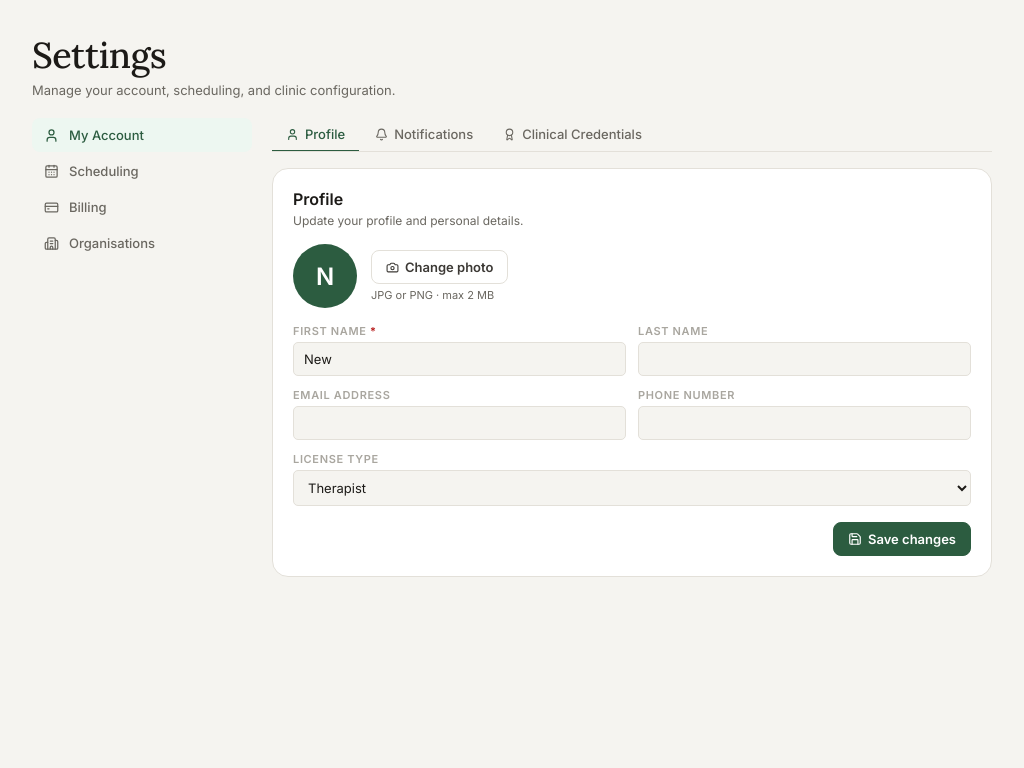
Test: <Settings> page — navigation › switches to Notifications sub-tab
Click the tab "Notifications": click(424, 135) x1=361 y1=118 x2=487 y2=152
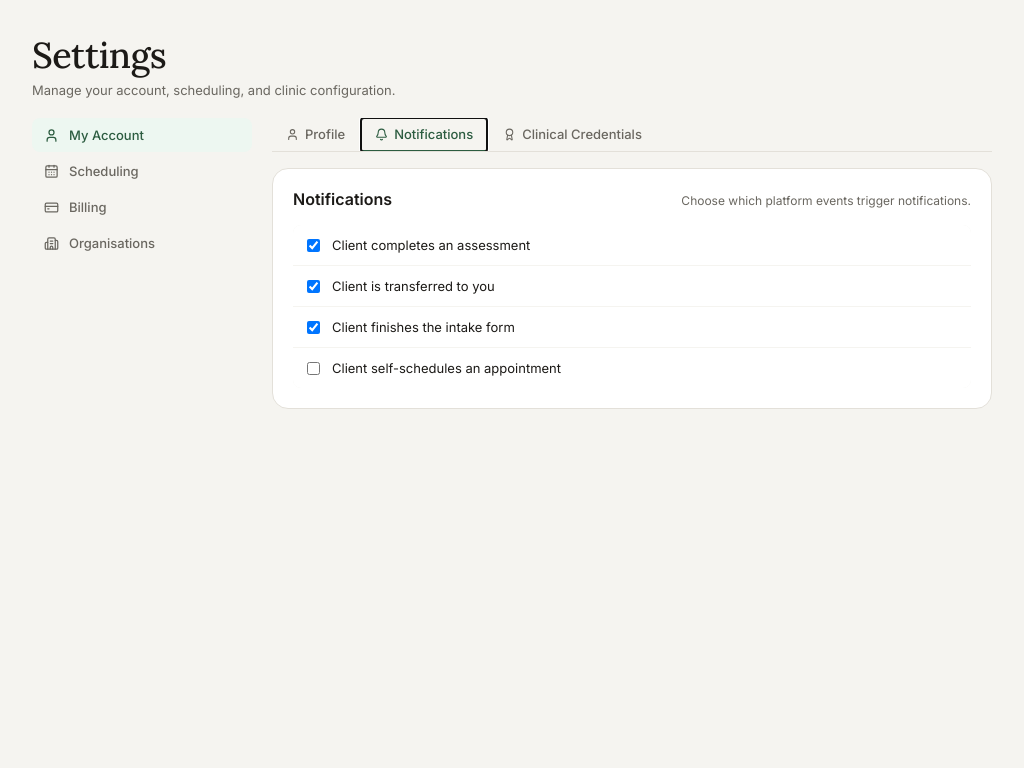
Check: the heading "Notifications" is shown, box x1=293 y1=189 x2=392 y2=209
Check: the text "Client completes an assessment" is shown, box x1=332 y1=237 x2=530 y2=253
